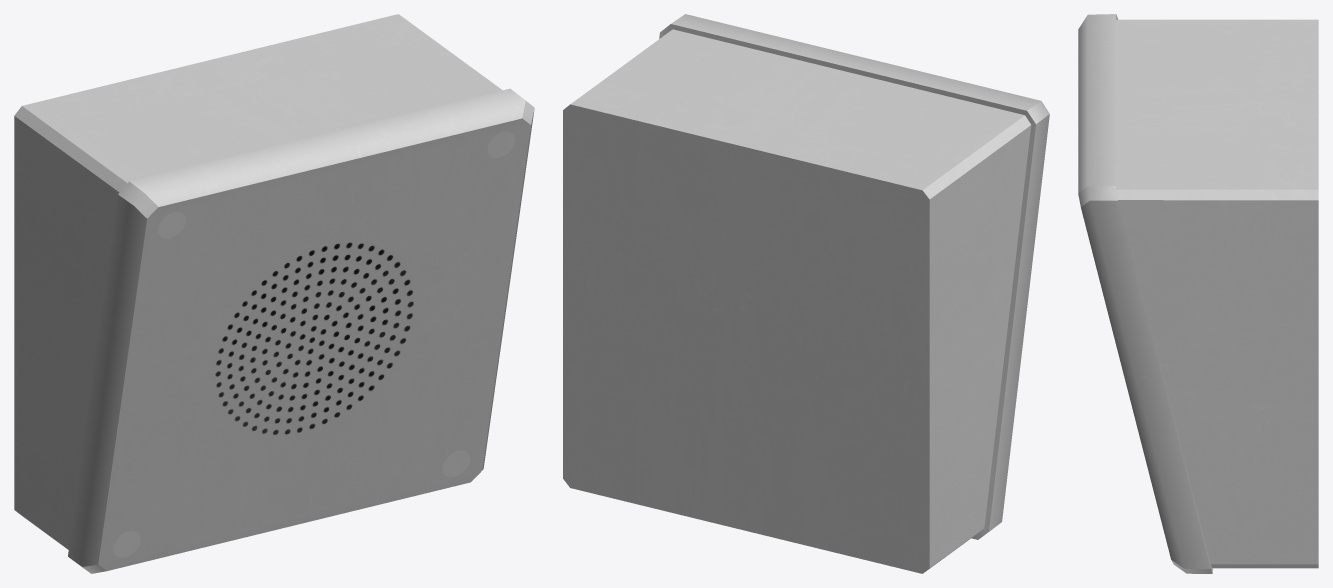
3 views of the same model, side by side, from view 1: azimuth 30°, elevation 25°; view 2: azimuth 150°, elevation 25°; view 3: azimuth 270°, elevation 25° (orthographic). The views are drawn at different scales.
Visible parts, largest first — view 1: IntercomSpeacker_IntercomSpeacker_0; view 2: IntercomSpeacker_IntercomSpeacker_0; view 3: IntercomSpeacker_IntercomSpeacker_0.
Part boxes in pixels (bbox=[...]): IntercomSpeacker_IntercomSpeacker_0: bbox=[14, 14, 534, 573]; IntercomSpeacker_IntercomSpeacker_0: bbox=[563, 14, 1049, 573]; IntercomSpeacker_IntercomSpeacker_0: bbox=[1078, 14, 1318, 573].
Size of the model in its own units: 0.1847 by 0.1846 by 0.1037.
Materials: 1 (1 with a texture image).
